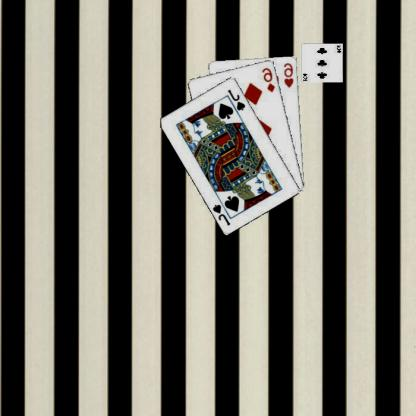6D: (262, 65, 278, 93)
6H: (284, 60, 296, 89)
JS: (212, 201, 234, 226), (227, 86, 248, 112)
